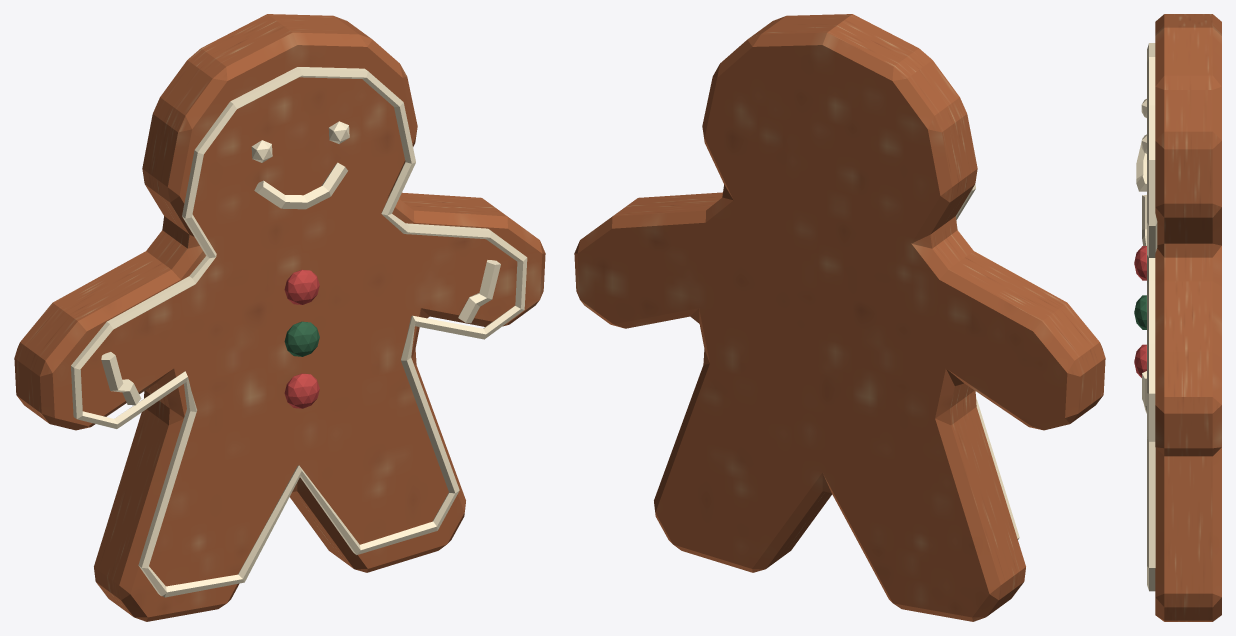
Rendered from gingerbread_cookie.glb.
The picture shows the model from 3 angles, left to right: view 1: azimuth 30°, elevation 25°; view 2: azimuth 150°, elevation 25°; view 3: azimuth 270°, elevation 25°; orthographic projection. The views are drawn at different scales.
Parts seen in each view (by area): view 1: gingerbread_cookie; view 2: gingerbread_cookie; view 3: gingerbread_cookie.
Part boxes in pixels (box(x1,y1,x2,y2)): gingerbread_cookie: box(14, 14, 545, 621); gingerbread_cookie: box(574, 14, 1105, 621); gingerbread_cookie: box(1134, 14, 1221, 621).
Bounding box in the file's own units: 0.1837 × 0.1938 × 0.029.
4 materials, 1 textured.
